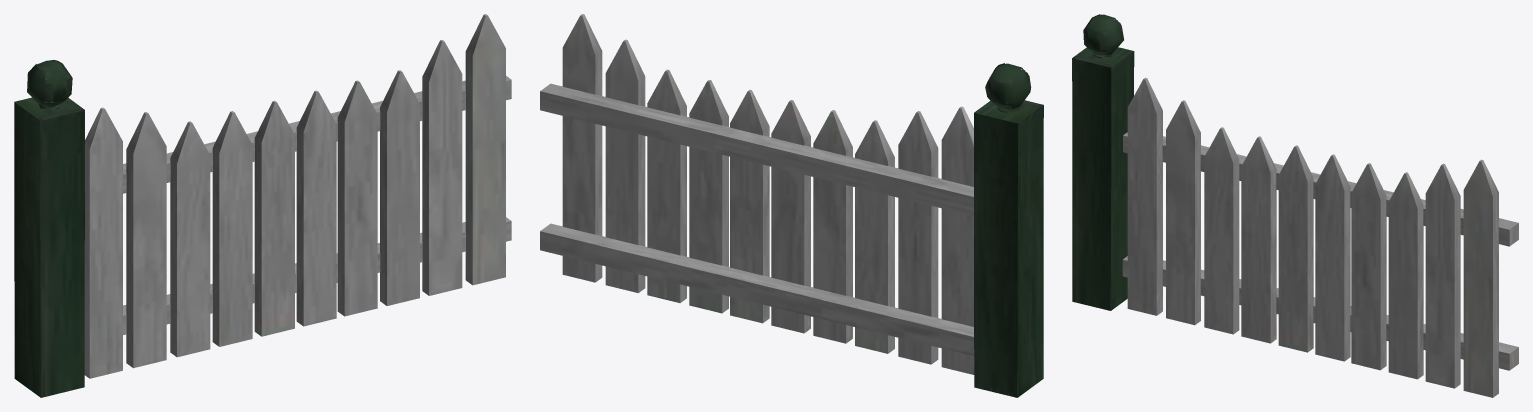
Rendered from picket.glb.
The picture shows the model from 3 angles, left to right: view 1: azimuth 30°, elevation 25°; view 2: azimuth 150°, elevation 25°; view 3: azimuth 330°, elevation 25°; orthographic projection. The views are drawn at different scales.
Visible parts, largest first — view 1: picket; view 2: picket; view 3: picket.
Boxes of the visible parts, x1,y1,x2,y2 form: picket: (14, 14, 511, 397); picket: (540, 14, 1043, 397); picket: (1072, 14, 1518, 397).
Bounding box in the file's own units: 2.25 × 1.42 × 0.213.
1 material, 1 textured.
